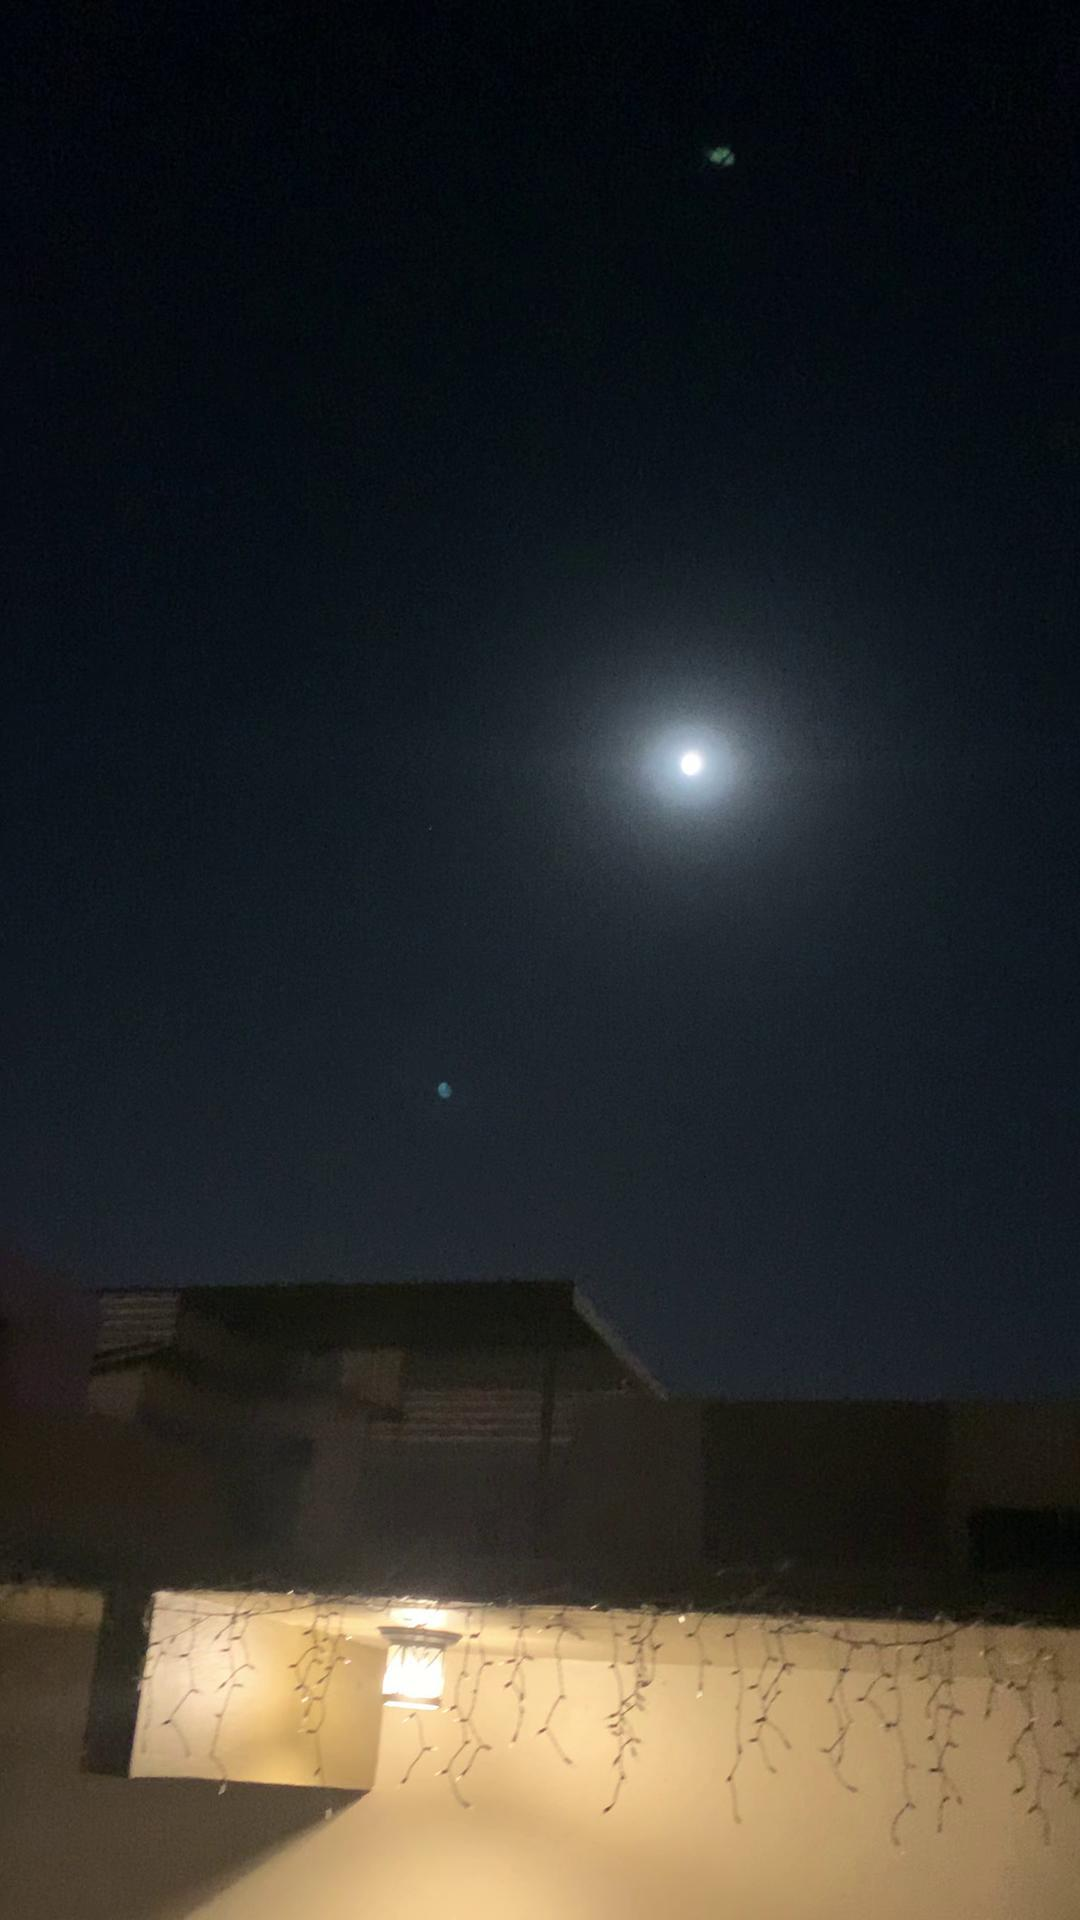moon: (650, 721, 737, 800)
